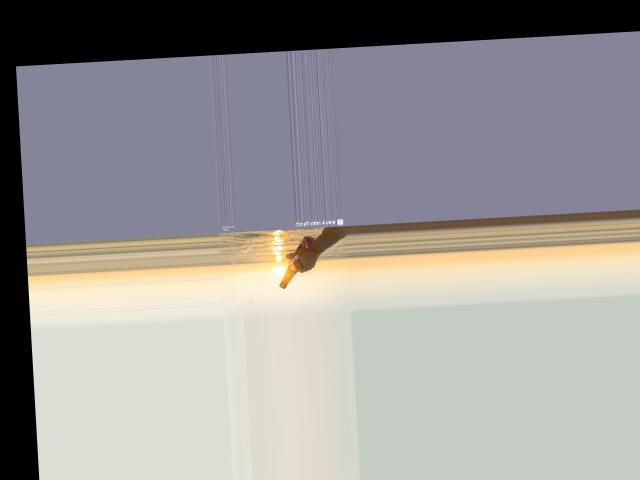beer: (276, 235, 318, 289)
